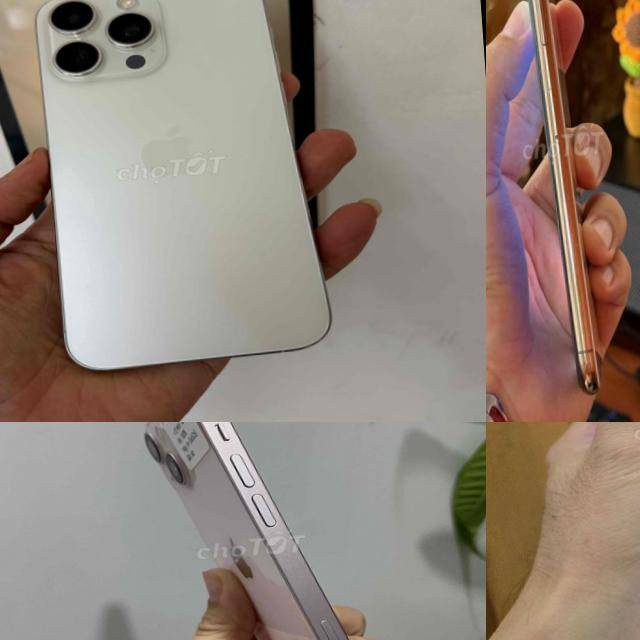gen_12_13: (133, 422, 393, 640)
gen_15: (6, 0, 356, 407)
gen_x_xs: (510, 0, 607, 406)
